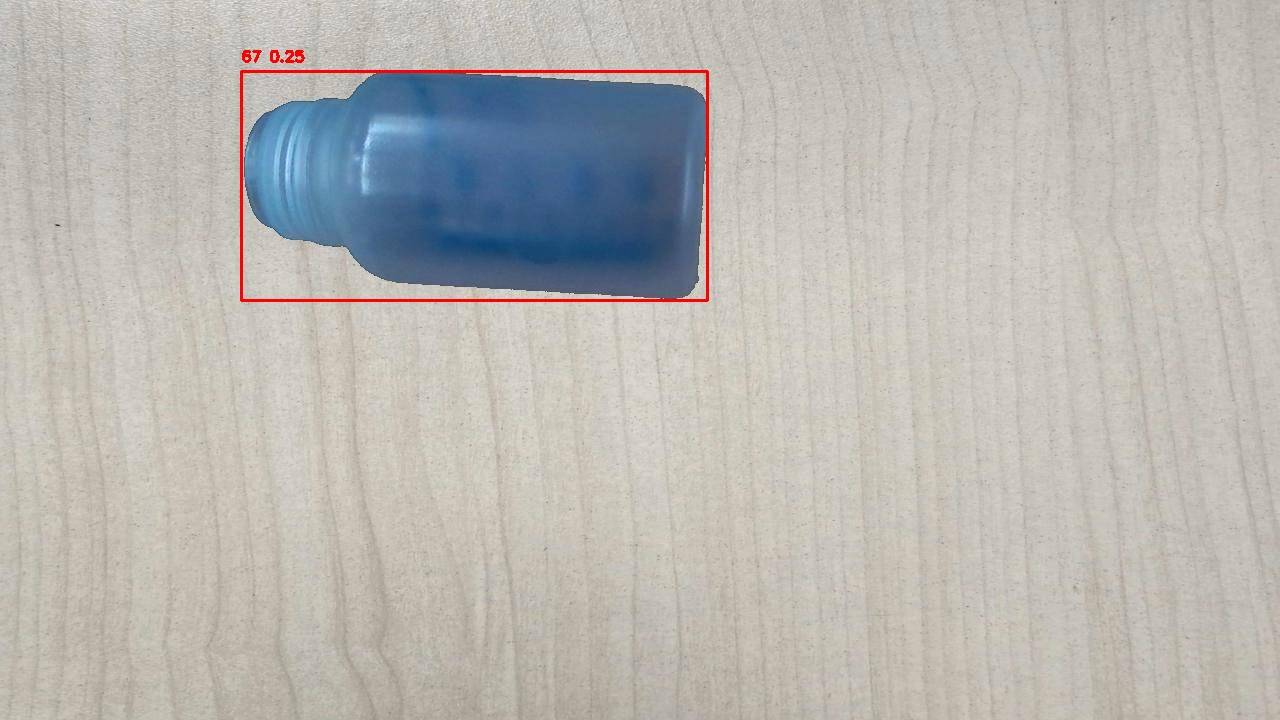cup: (241, 71, 707, 300)
